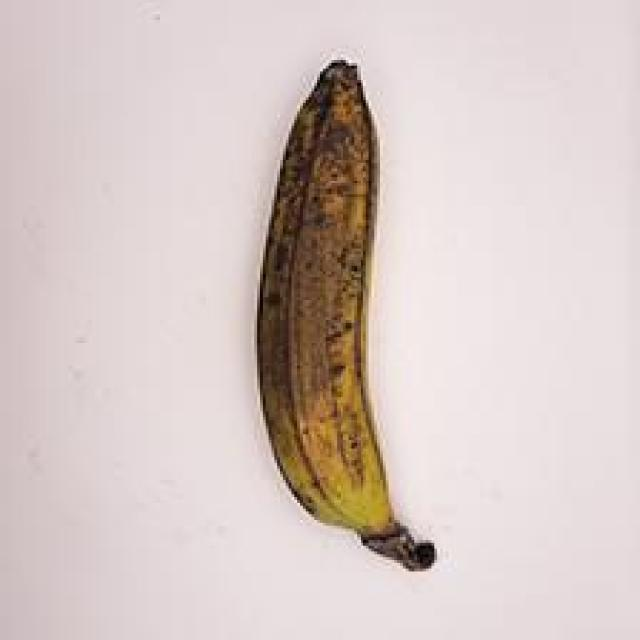Overripe: (192, 17, 478, 585)
